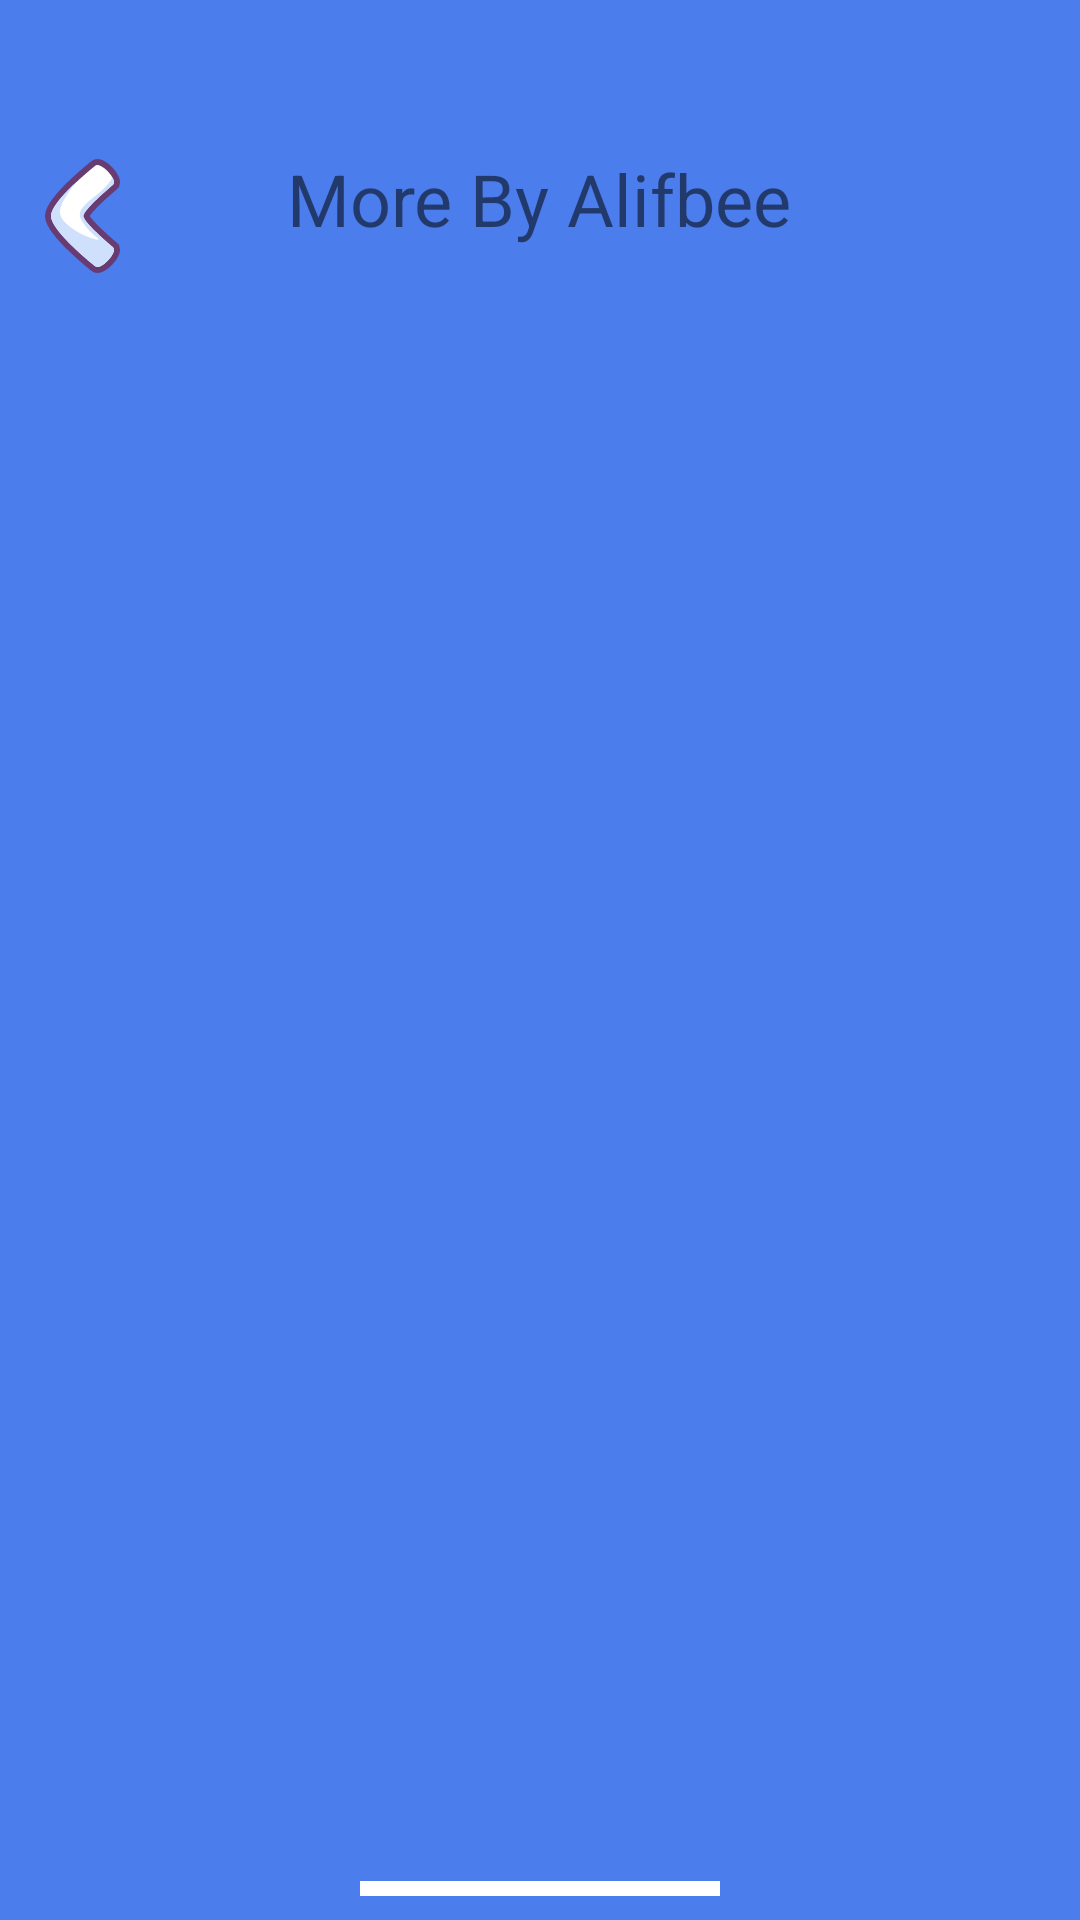

Icon click points for this 1080*1920 phone screenshot, format [x,y]:
back: [82,216]
